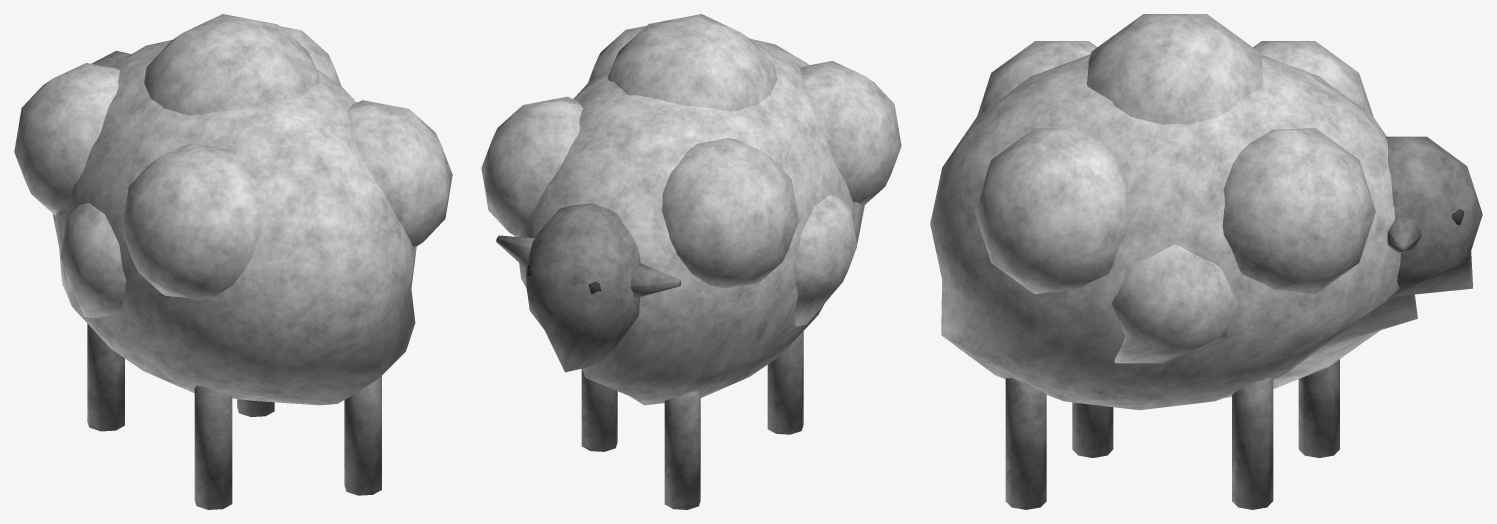
Rendered from mob_domba_walk3.obj.
3 views of the same model, side by side, from view 1: azimuth 30°, elevation 25°; view 2: azimuth 150°, elevation 25°; view 3: azimuth 270°, elevation 25° (orthographic). The views are drawn at different scales.
Parts seen in each view (by area): view 1: mob_domba; view 2: mob_domba; view 3: mob_domba.
Part boxes in pixels (x1=…): mob_domba: x1=14, y1=14, x2=452, y2=509; mob_domba: x1=481, y1=14, x2=901, y2=509; mob_domba: x1=930, y1=14, x2=1482, y2=509.
Size of the model in its own units: 0.8371 by 1.08 by 1.17.
Materials: 1 (1 with a texture image).
